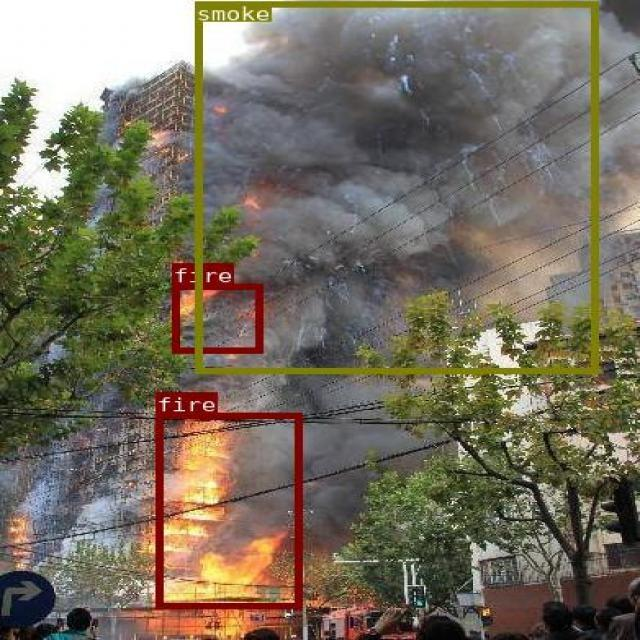fire: (154, 412, 301, 607), (172, 283, 260, 351)
smoke: (195, 1, 597, 373)
